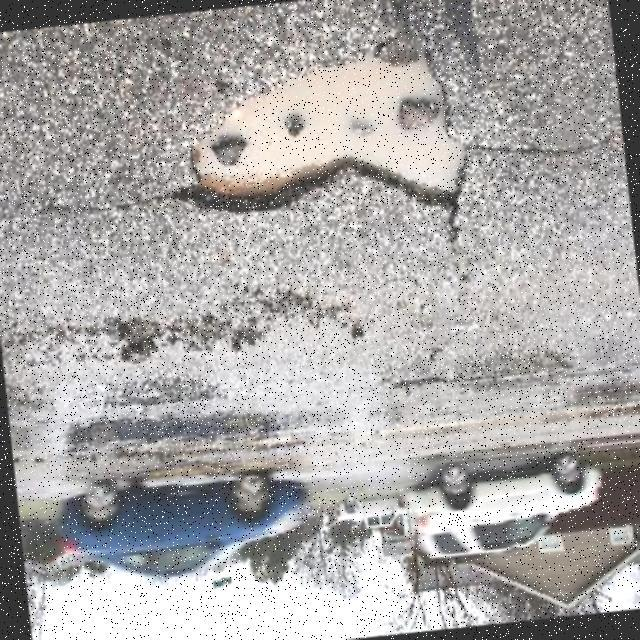Pothole: (179, 53, 465, 213)
